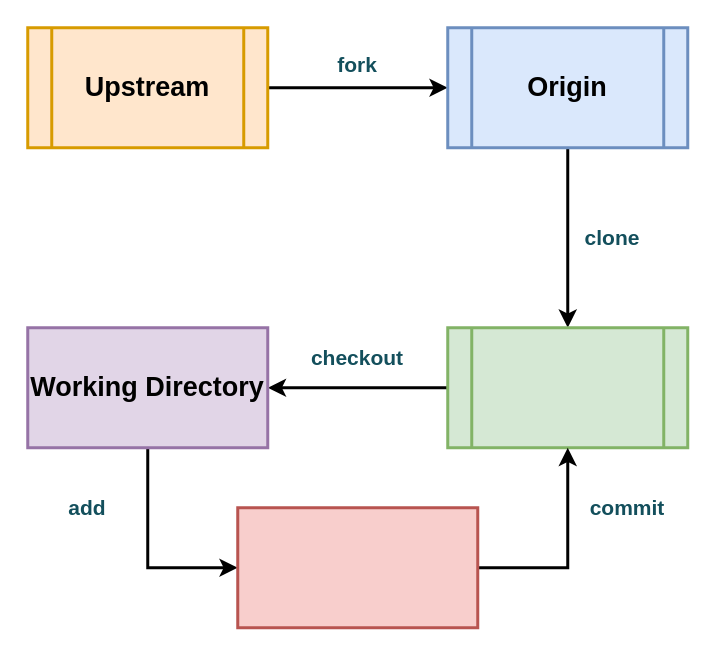
The diagram is 714 pixels wide and 654 high, and some of its shapes have lost their labels. Each missing label, with the box of its shape:
Local: (446, 326, 688, 448)
Staging Area: (236, 506, 478, 628)
